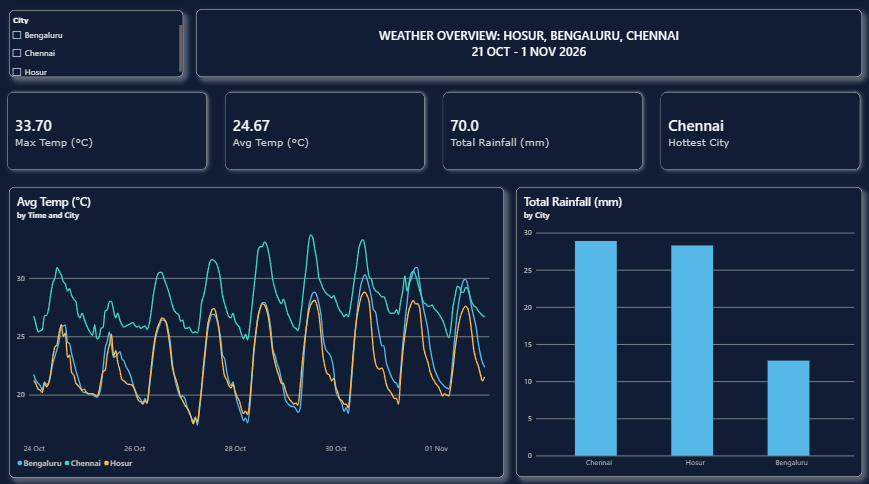

The dashboard page shown, as its layout file describes it:
{"tool":"powerbi","page":{"name":"Weather Overview","canvas":[1920,1080],"ordinal":0},"visuals":[{"type":"slicer","fields":{"Values":["Dim_City.City"]},"box":[42,26,302,148],"z":0},{"type":"cardVisual","fields":{"Data":["Fact_Weather.Max Temp (°C)","Fact_Weather.Avg Temp (°C)","Fact_Weather.Total Rainfall (mm)","Fact_Weather.Hottest City"]},"box":[26,190,1762,202],"z":1000},{"type":"lineChart","fields":{"Category":["Fact_Weather.Time"],"Series":["Dim_City.City"],"Y":["Fact_Weather.Avg Temp (°C)"]},"box":[42,392,1072,540],"z":2000},{"type":"clusteredColumnChart","fields":{"Category":["Dim_City.City"],"Y":["Fact_Weather.Total Rainfall (mm)"]},"box":[1140,392,634,540],"z":3000},{"type":"textbox","title":"Weather overview: Hosur, Chennai, Bengaluru","box":[374,24,1400,150],"z":4000}]}

Visuals, with their boxes in screenshot pixels (x1, y1, x2, y2), scaled from the page's 1920x1080 canvas onto the 869x484 screenshot:
slicer - Dim_City.City: (19, 12, 156, 78)
cardVisual - Fact_Weather.Max Temp (°C) x Fact_Weather.Avg Temp (°C): (12, 85, 809, 176)
lineChart - Fact_Weather.Time x Dim_City.City: (19, 176, 504, 418)
clusteredColumnChart - Dim_City.City x Fact_Weather.Total Rainfall (mm): (516, 176, 803, 418)
"Weather overview: Hosur, Chennai, Bengaluru" textbox: (169, 11, 803, 78)
